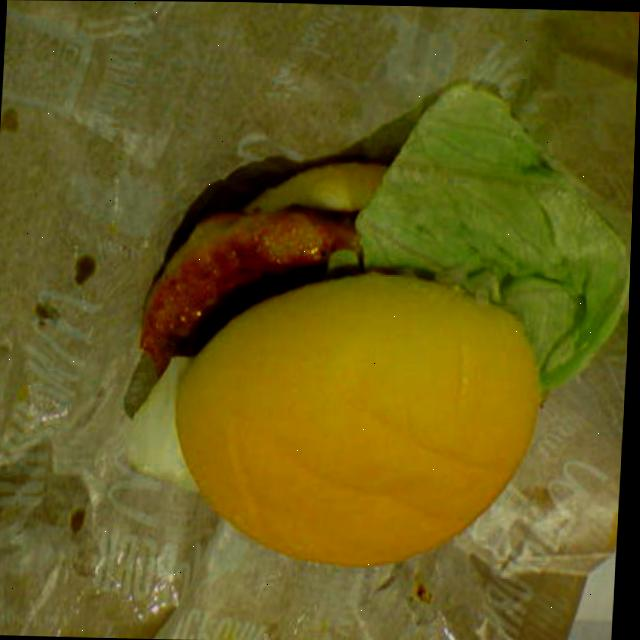汉堡快餐: (131, 95, 637, 585)
